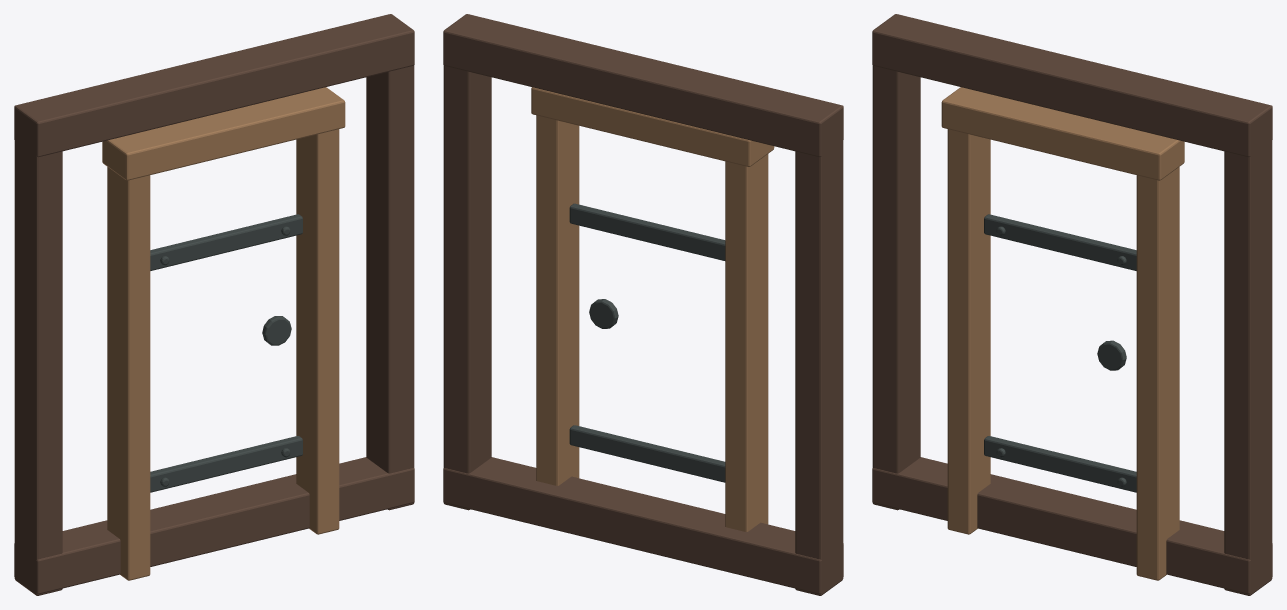
File: wall_door_2m__structure.glb
3 renders of one model, left to right at view 1: azimuth 30°, elevation 25°; view 2: azimuth 150°, elevation 25°; view 3: azimuth 330°, elevation 25°, orthographic.
Parts seen in each view (by area): view 1: wall_door_2m__structure__mesh_00; view 2: wall_door_2m__structure__mesh_00; view 3: wall_door_2m__structure__mesh_00.
Part boxes in pixels (x1,y1,x2,y2): wall_door_2m__structure__mesh_00: [14, 14, 414, 595]; wall_door_2m__structure__mesh_00: [443, 14, 843, 595]; wall_door_2m__structure__mesh_00: [872, 14, 1272, 595].
Bounding box in the file's own units: 2 × 2.4 × 0.31.
